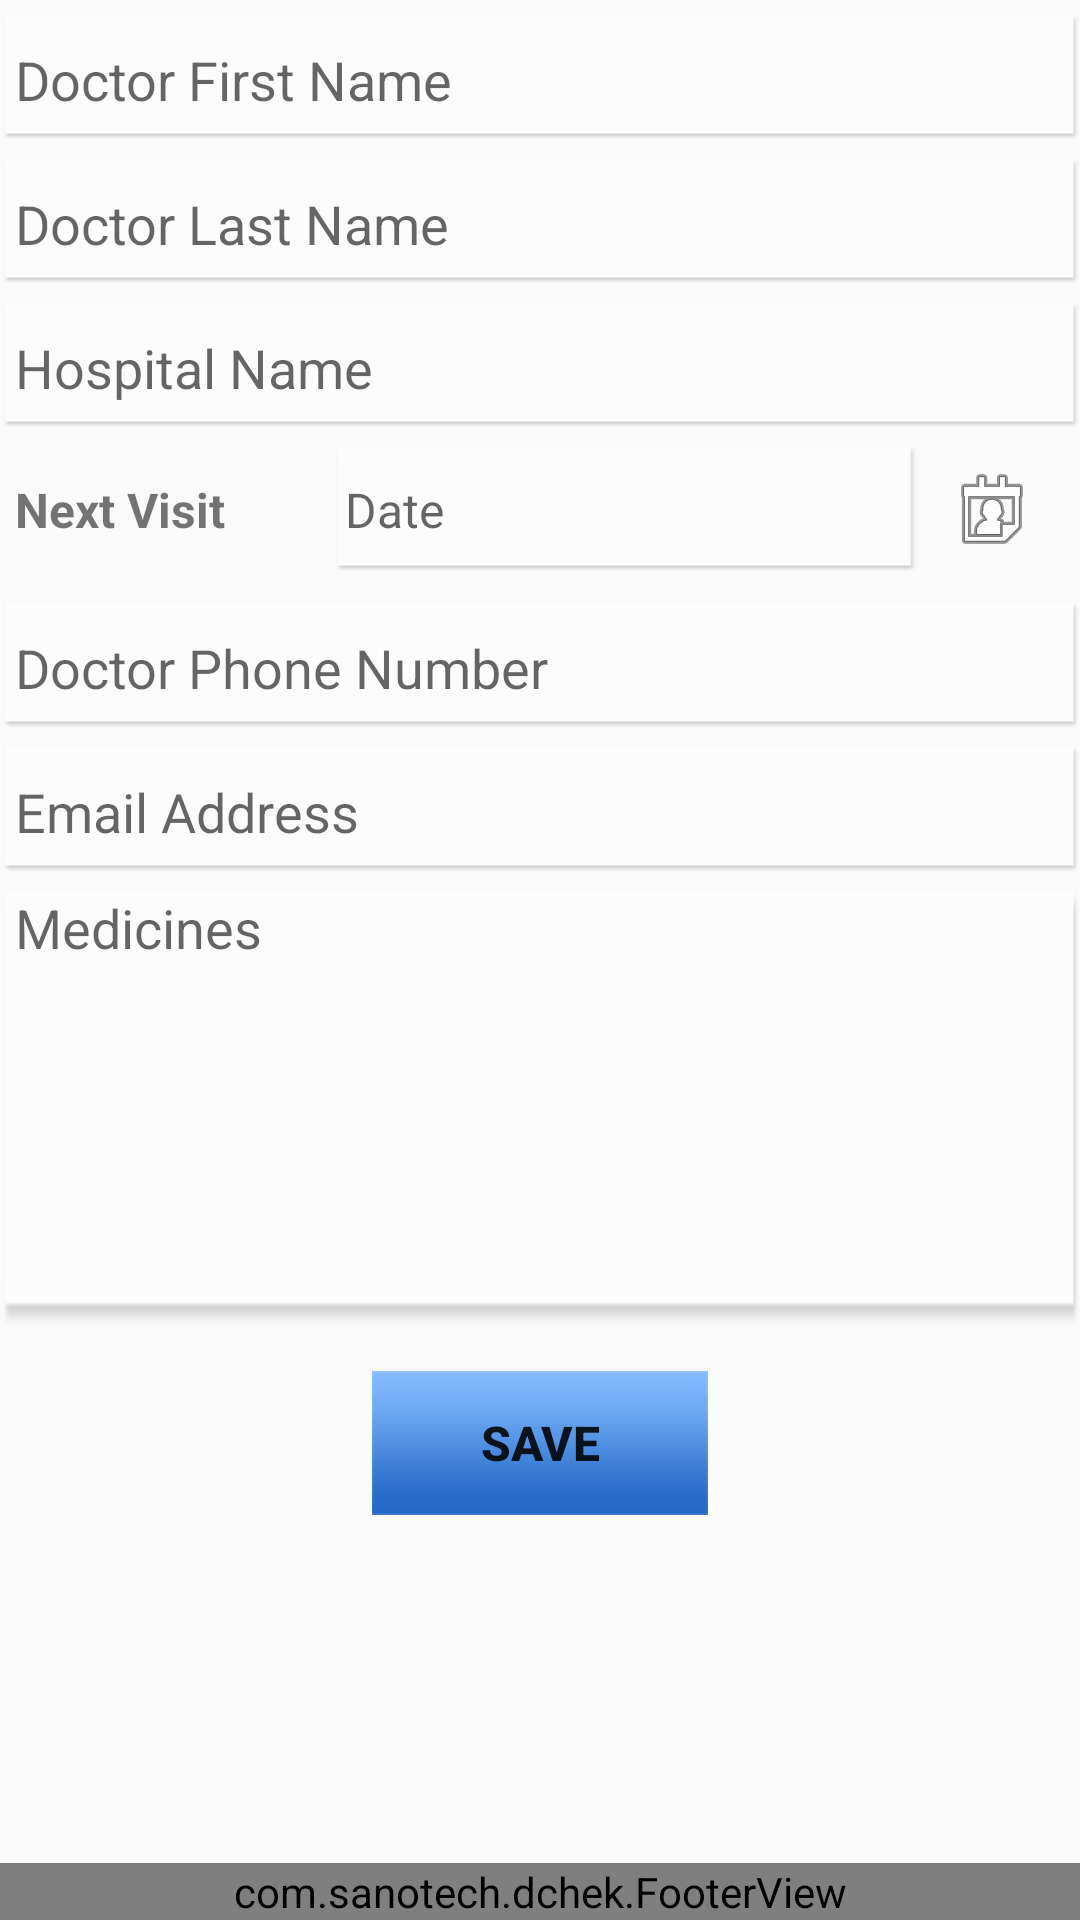

Icon bounding boxes for this 1080x1920 phone screenshot, format (x1, y1, x2, y2):
calendar: (961, 474, 1023, 544)
